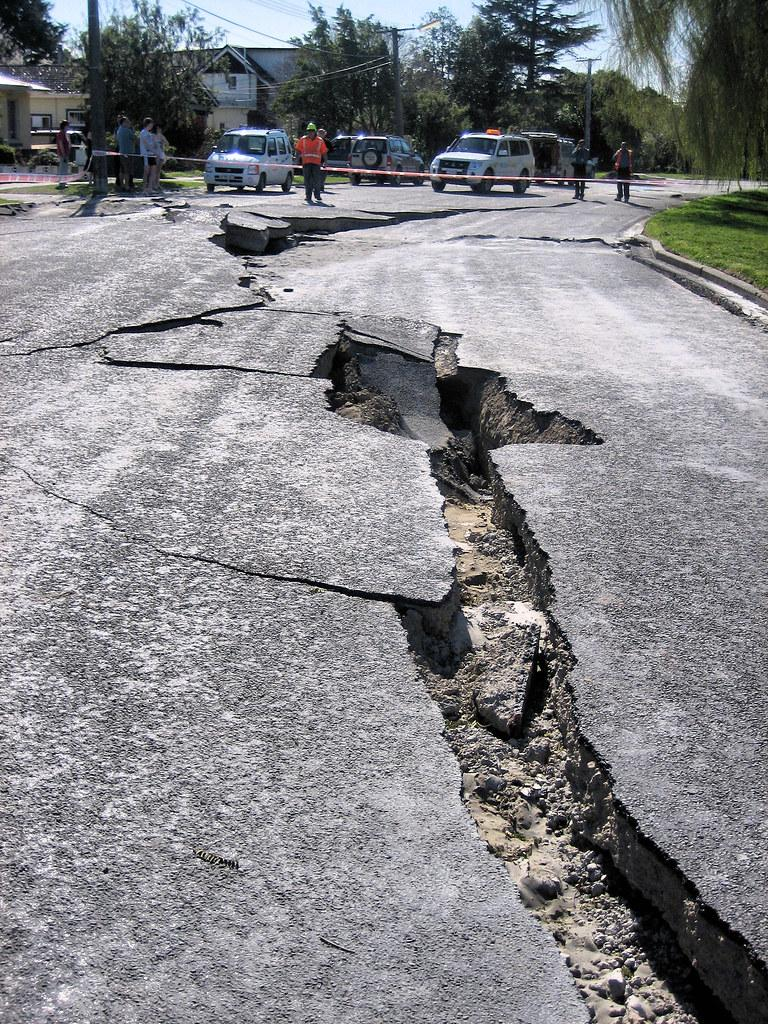crackedroads: (318, 332, 767, 1016), (440, 376, 595, 452), (226, 214, 402, 267)
